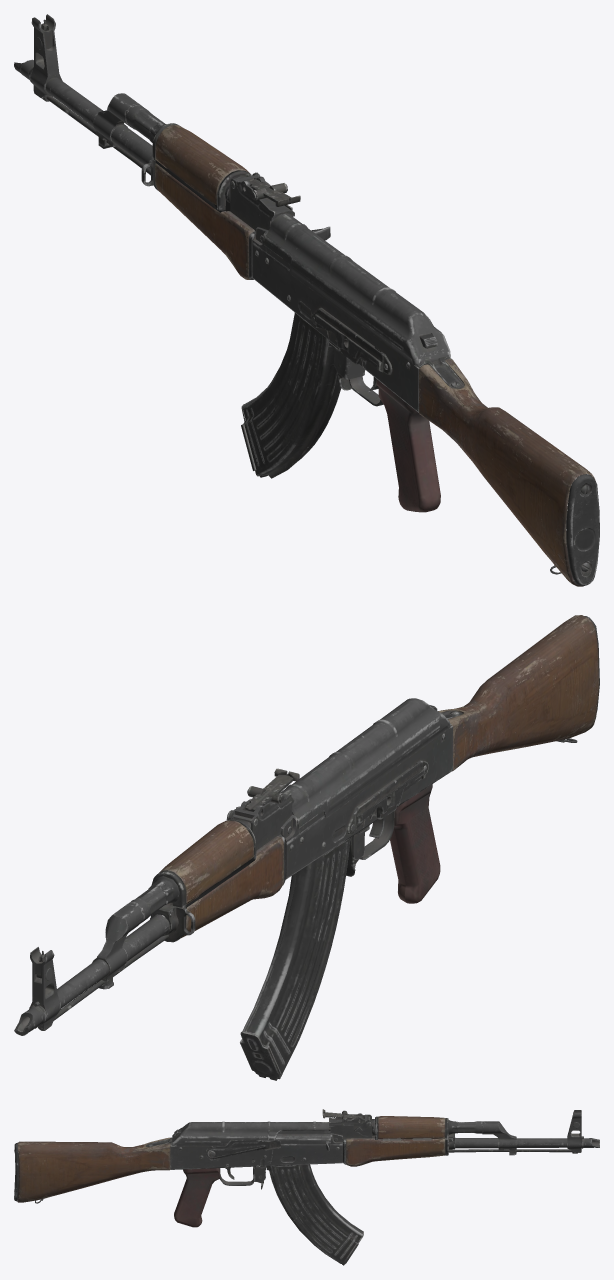
3 views of the same model, one above another, from view 1: azimuth 30°, elevation 25°; view 2: azimuth 150°, elevation 25°; view 3: azimuth 270°, elevation 25° (orthographic). The views are drawn at different scales.
Visible parts, largest first — view 1: rest_steel, magazine_steel; view 2: rest_steel, magazine_steel; view 3: rest_steel, magazine_steel, bolt_steel.
Boxes of the visible parts, box(x1,y1,x2,y2) form: rest_steel: box(14, 14, 599, 586); magazine_steel: box(241, 312, 341, 478); rest_steel: box(14, 615, 599, 1035); magazine_steel: box(240, 838, 350, 1080); rest_steel: box(14, 1109, 599, 1227); magazine_steel: box(266, 1164, 363, 1265); bolt_steel: box(275, 1130, 330, 1151).
Size of the model in its own units: 0.077 by 0.2955 by 1.03.
Materials: 2 (1 with a texture image).
